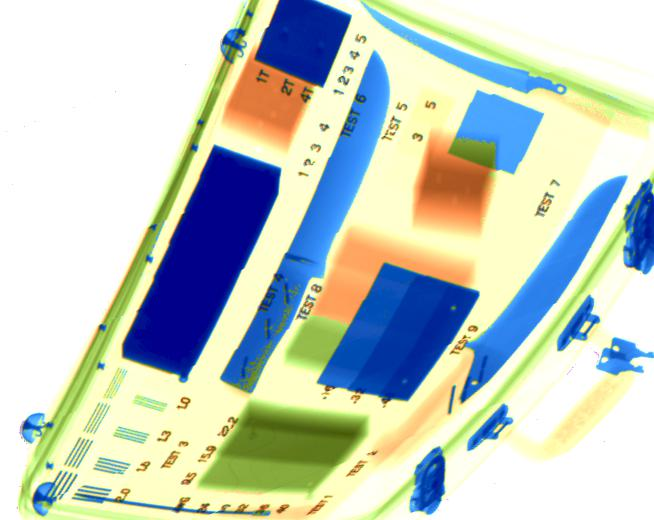Knife: (218, 49, 392, 396), (441, 168, 632, 413), (357, 1, 572, 101)
